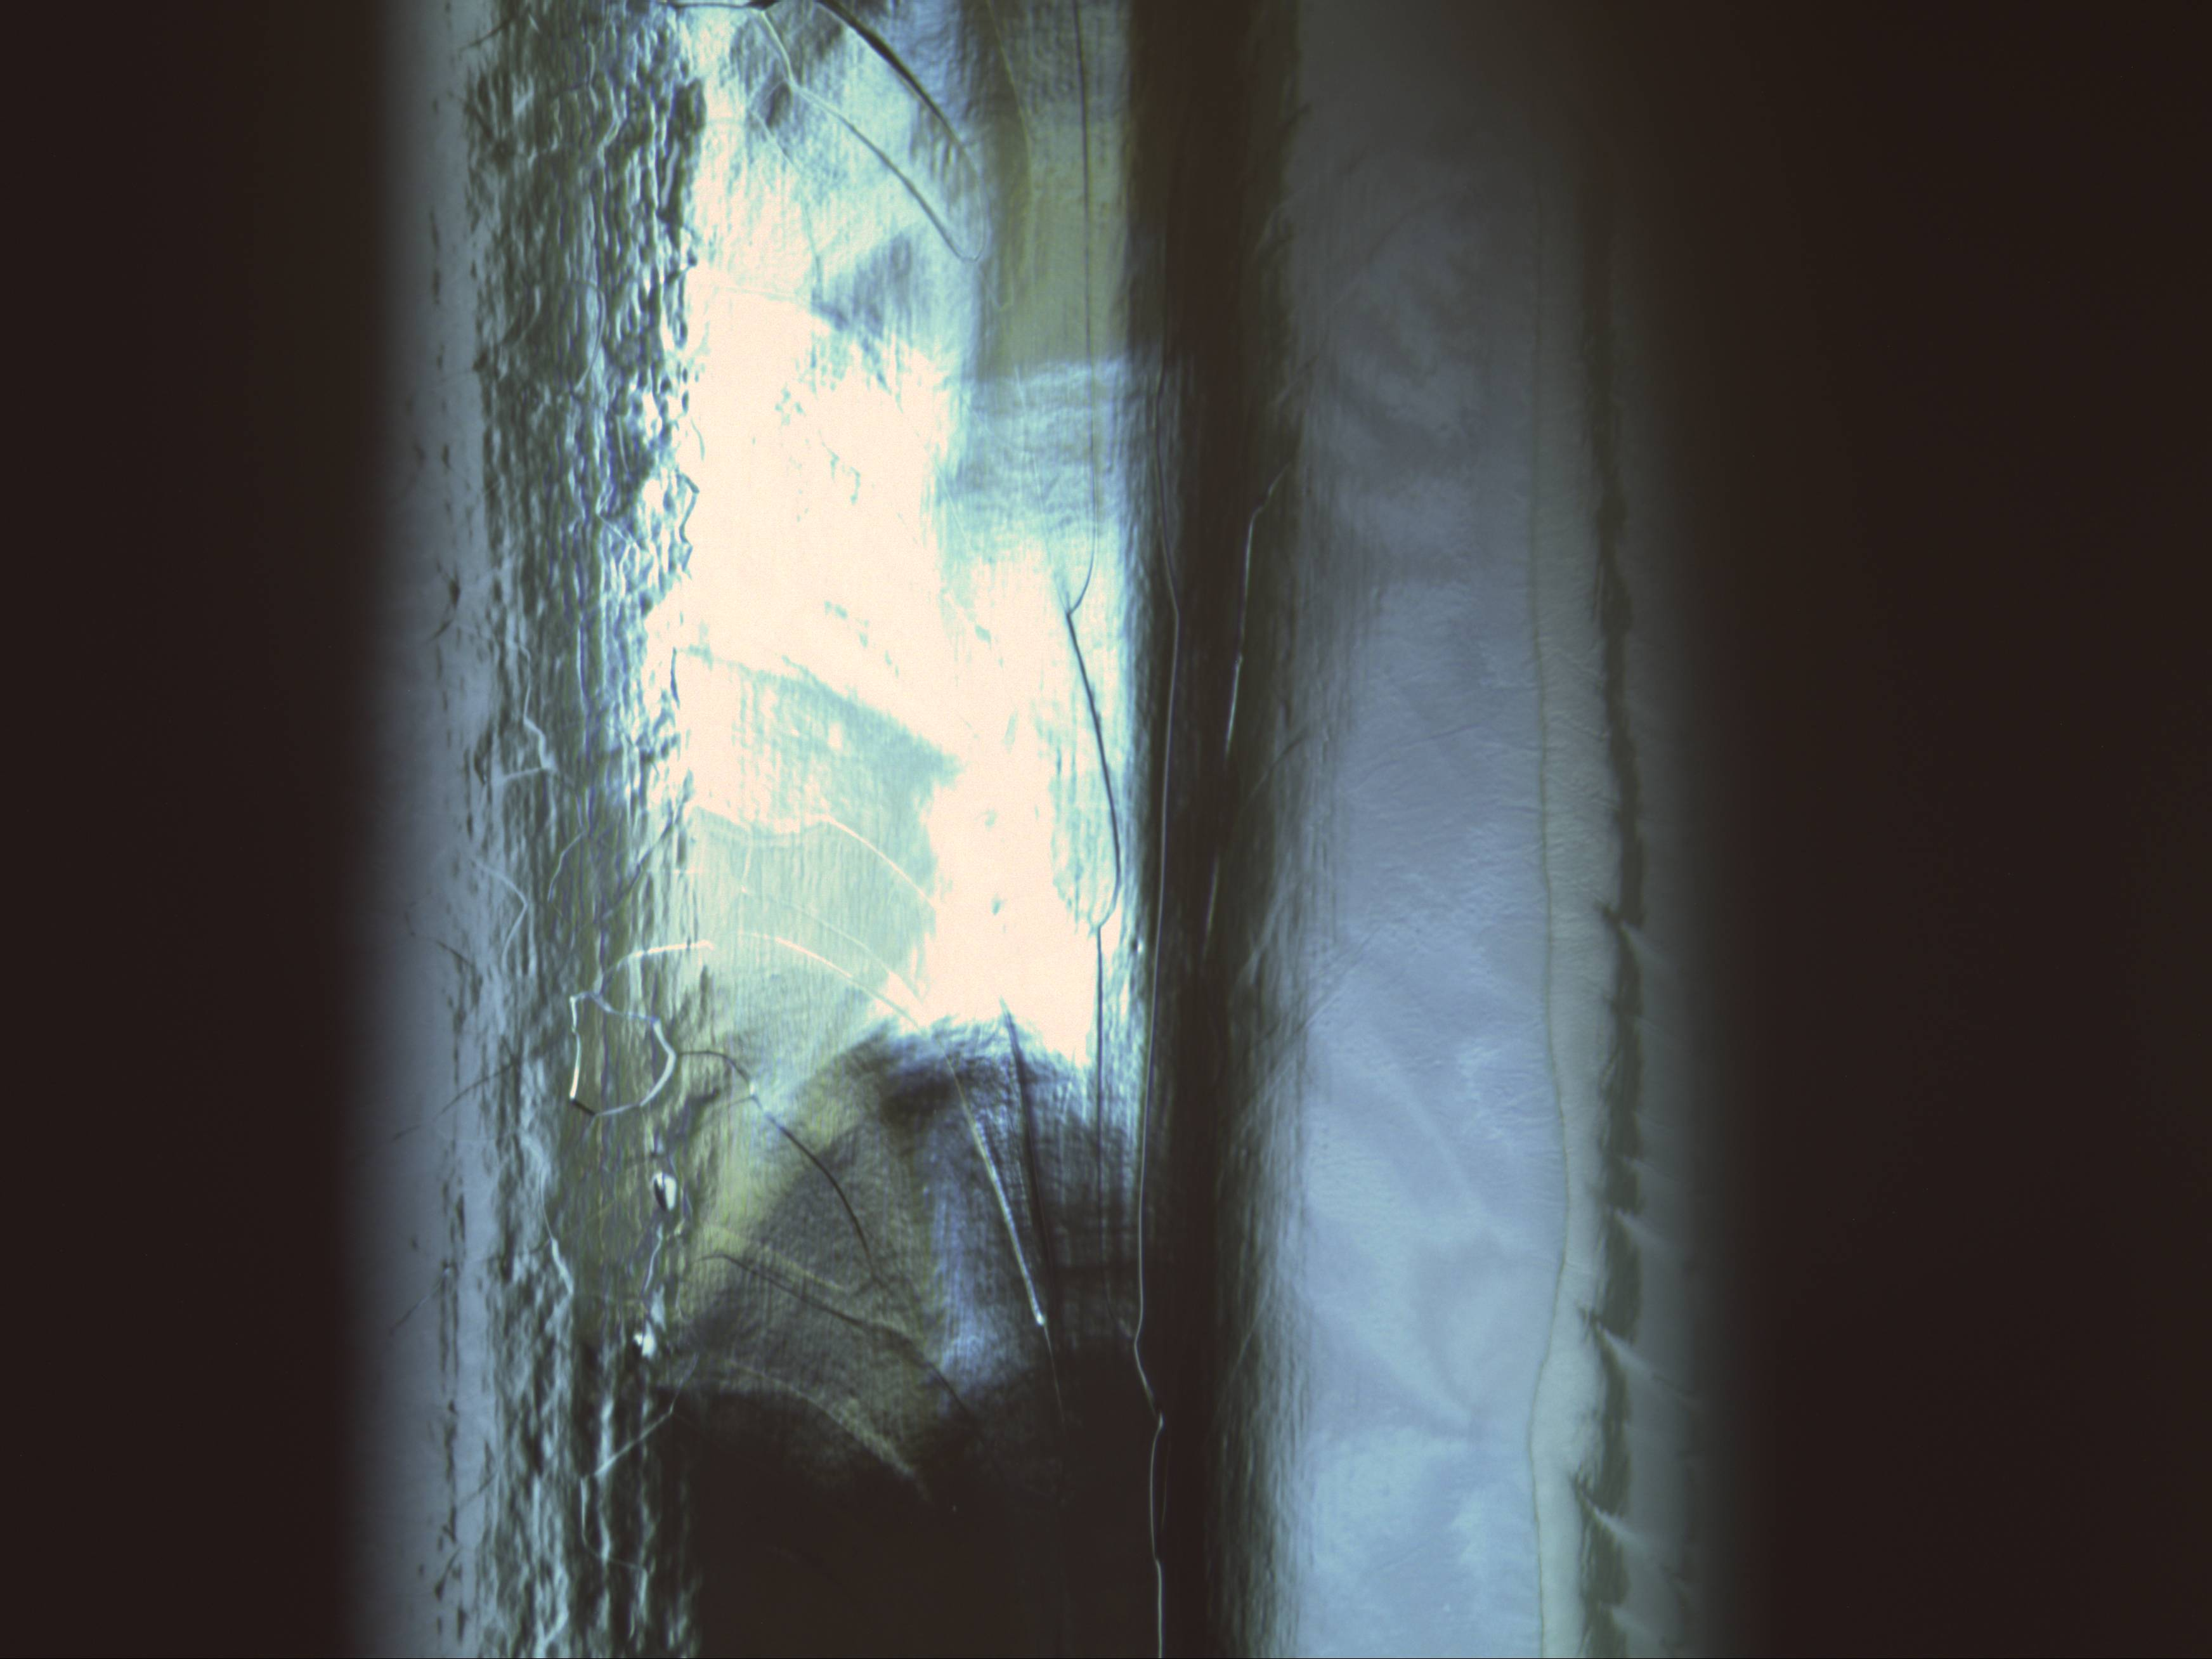defect: (618, 1323, 655, 1358)
